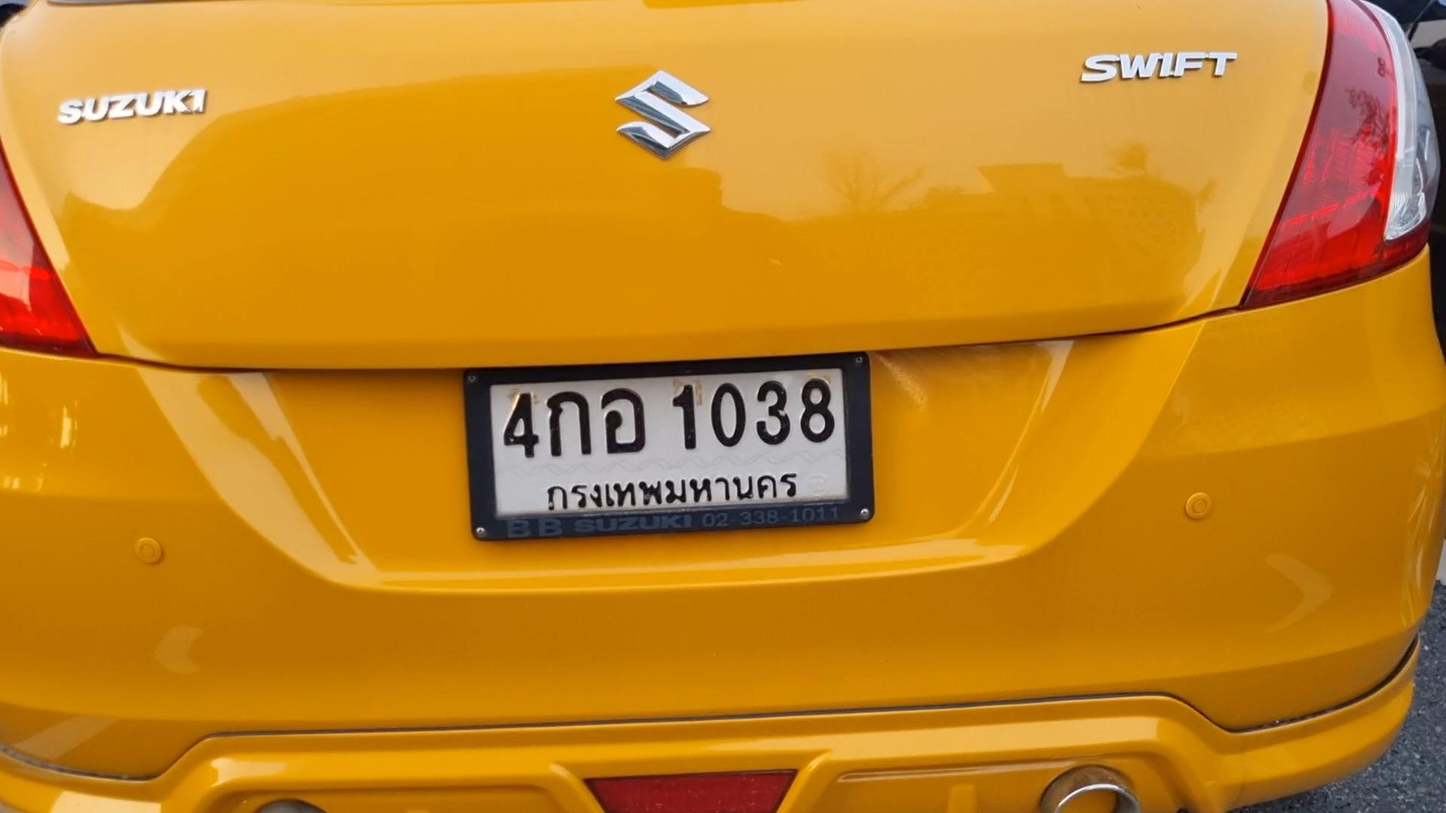license-plate: (456, 345, 880, 547)
